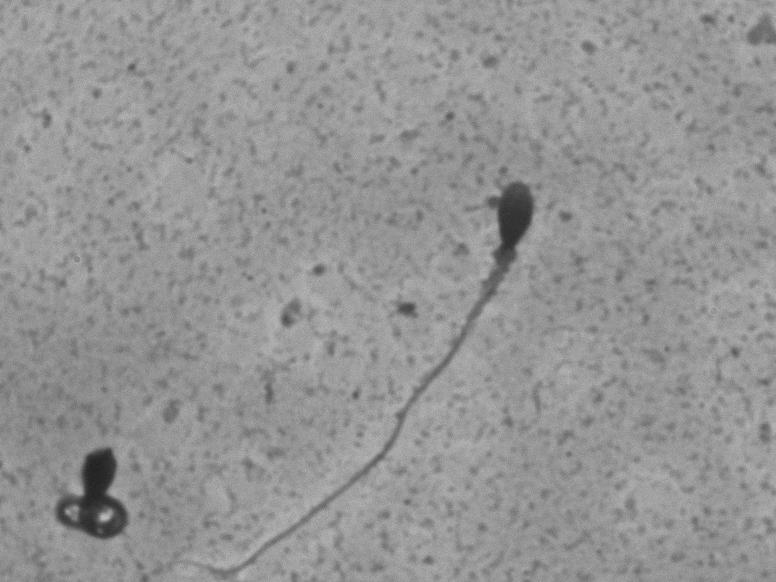Abnormal: (347, 165, 586, 540)
